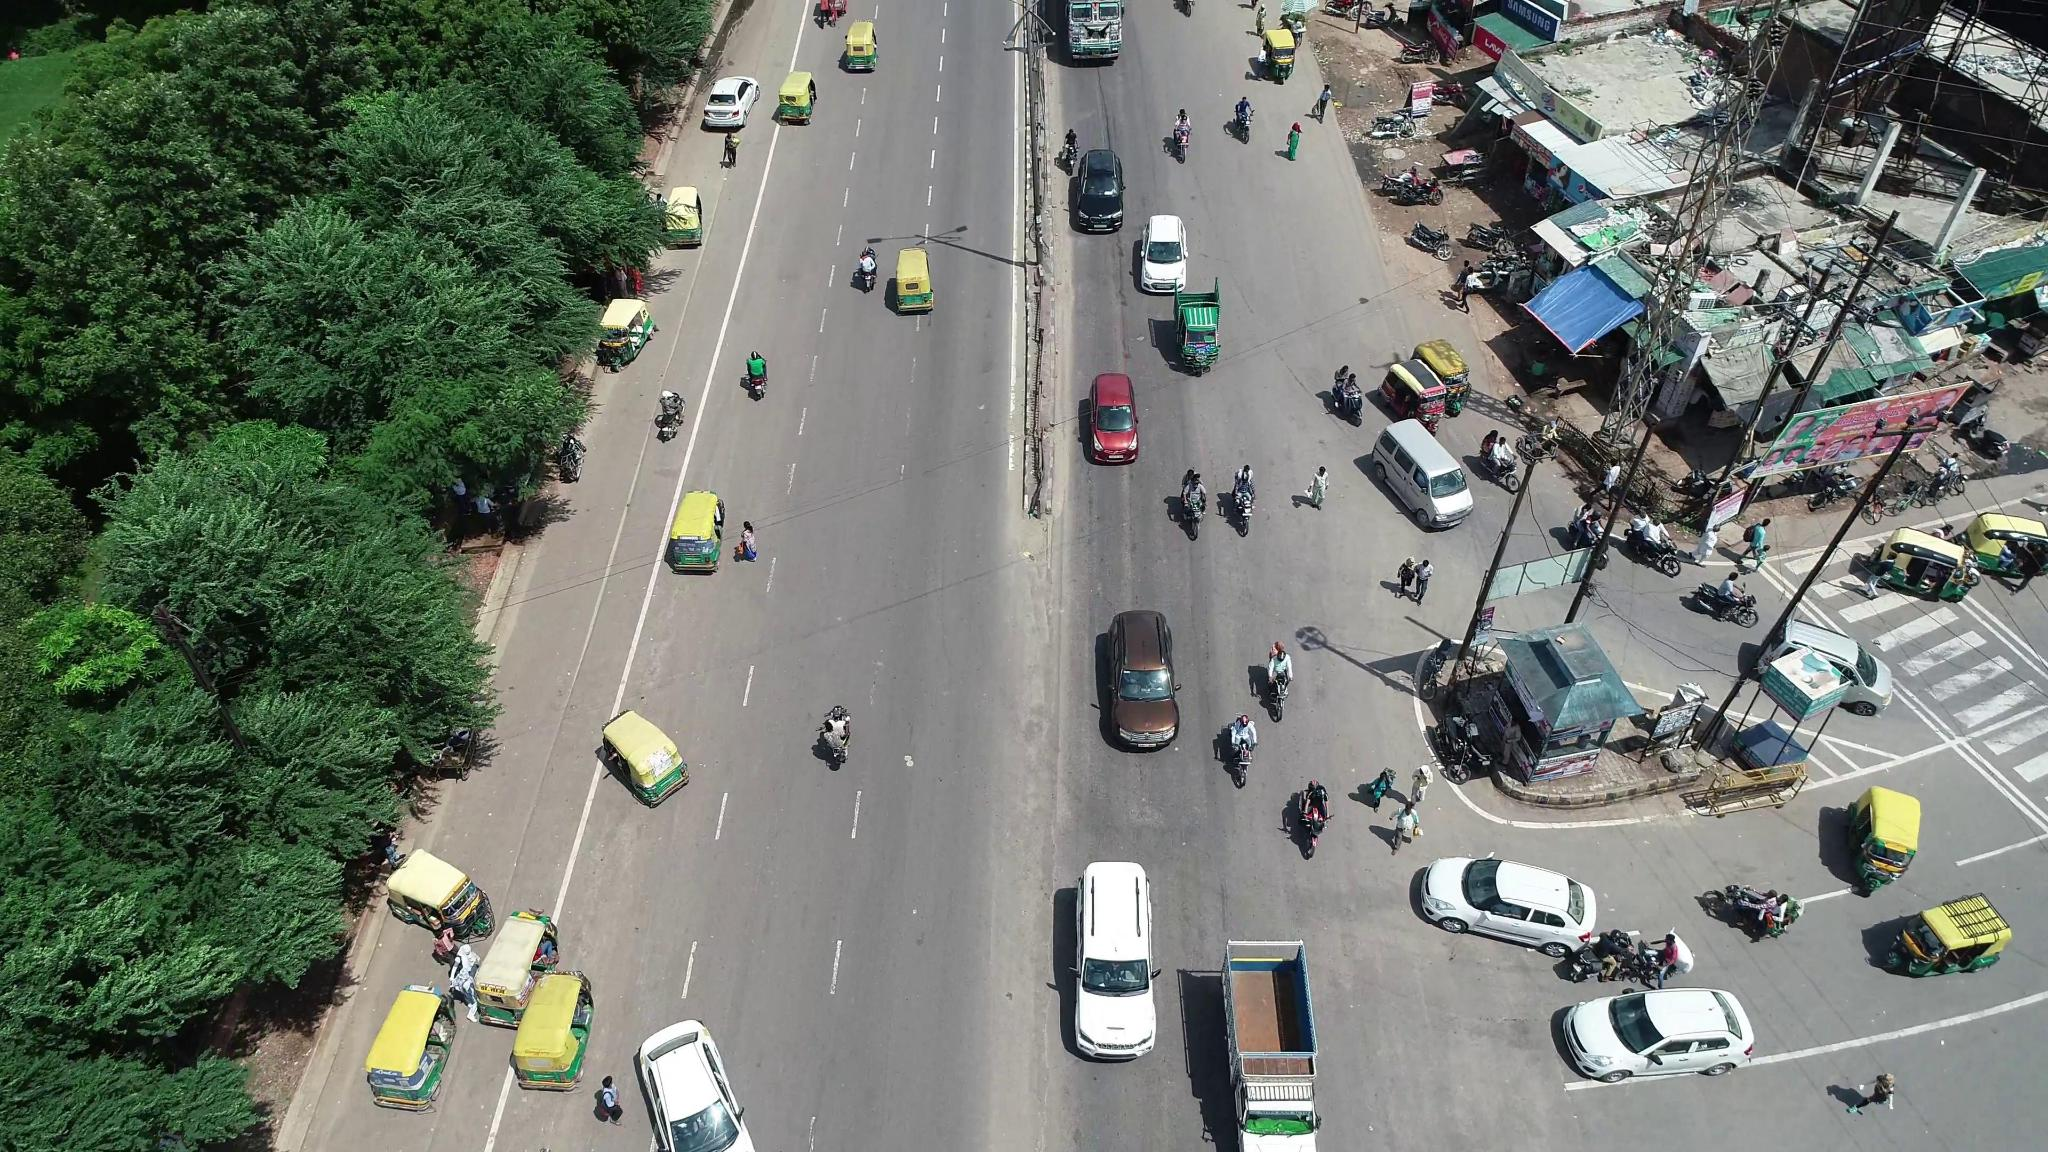Cracks: (1113, 235, 1134, 364), (1092, 70, 1115, 151)
